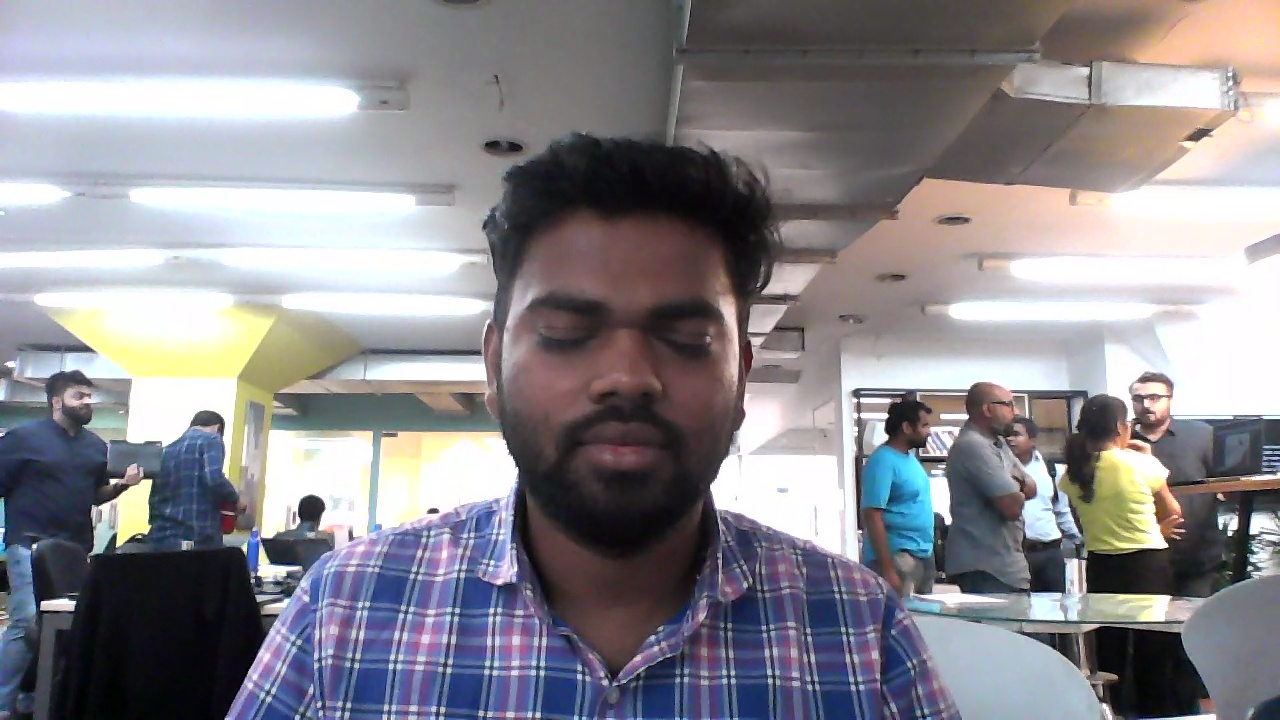closed: (498, 169, 750, 541)
